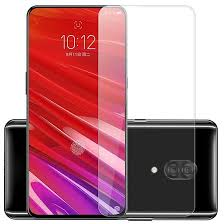lenovo: (24, 1, 128, 221)
